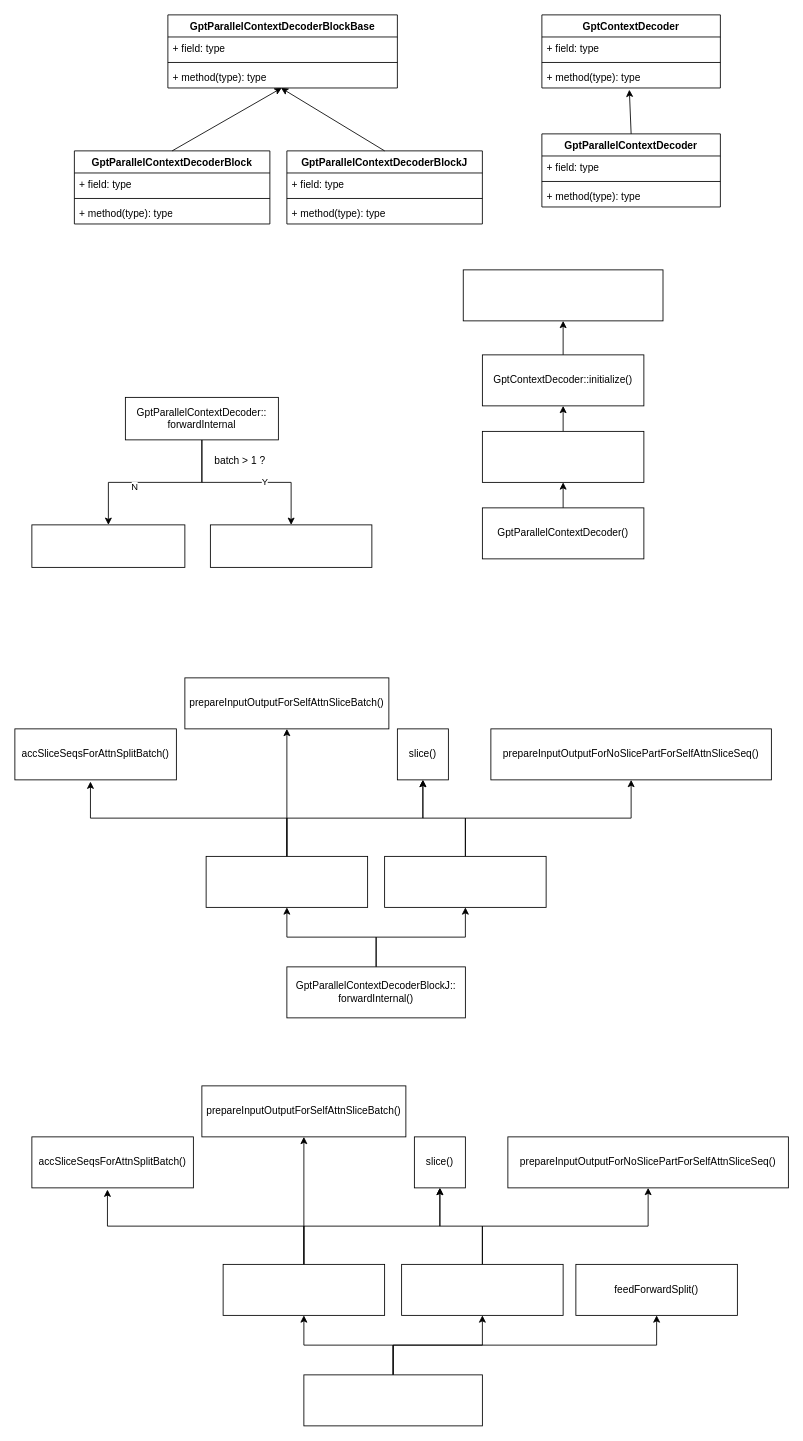
Some shapes in this 803 by 1441 pixel diagram are drawn without their labels. The shapes that lost their labels are listed below. From the top down, each one's centre as x and y in pixels, then its label:
At point (562, 295): "create layers : if use_parallel use GptParallelContextDecoderBlock".
At point (563, 456): "GptContextDecoder()".
At point (108, 545): "GptParallelContextDecoder:: prepareParallelTensorsSplitSeq".
At point (291, 545): "GptParallelContextDecoder:: prepareParallelTensorsSplitBatch".
At point (286, 881): "selfAttnFeedForwardSplitBatch()".
At point (465, 881): "selfAttnFeedForwardSplitSeq()".
At point (303, 1289): "selfAttnSplitBatch()".
At point (482, 1289): "selfAttnSplitSeq()".
At point (392, 1400): "GptParallelContextDecoderBlock:: forwardInternal()".
